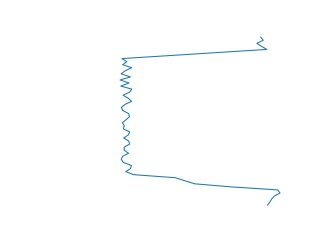distributaryChannelFill: (115, 39, 283, 206)
